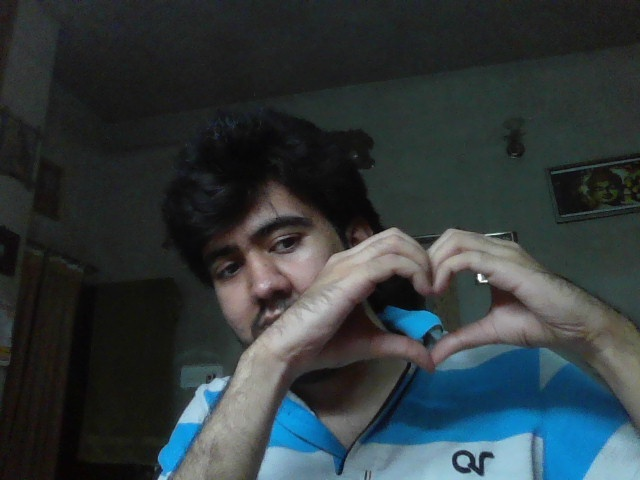Love: (281, 227, 578, 374)
